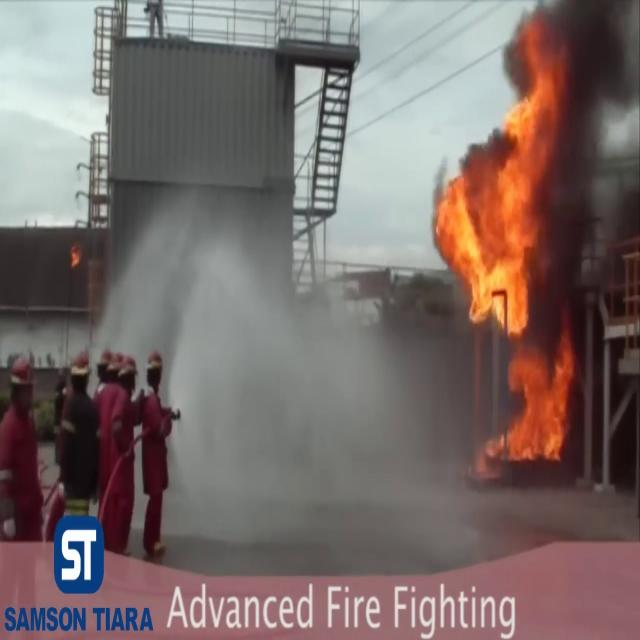Fire: (435, 32, 576, 478)
